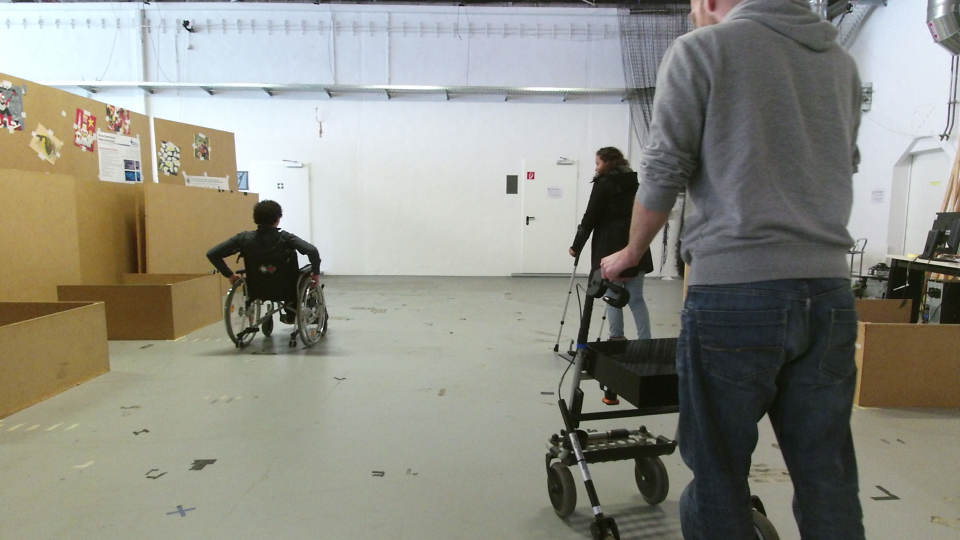crutches: (546, 143, 650, 367)
wheelchair: (203, 188, 331, 359)
